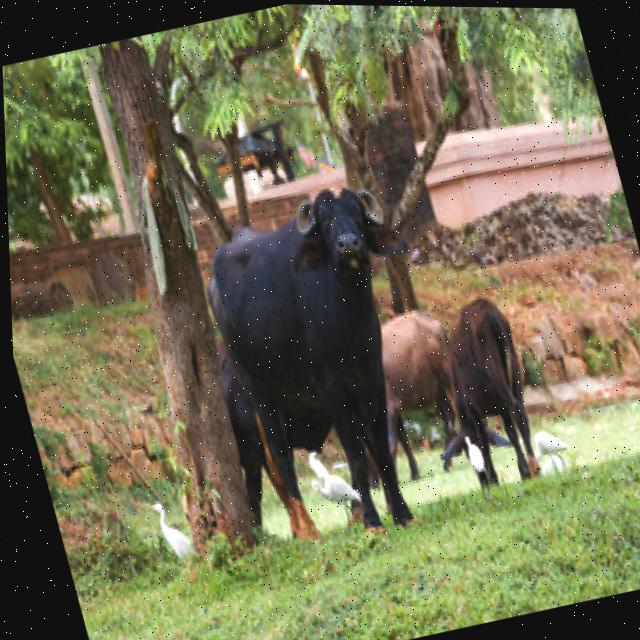Buffalo: (180, 167, 476, 558)
